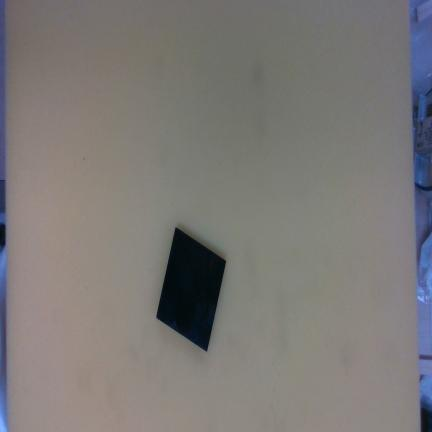tile: (150, 226, 231, 353)
